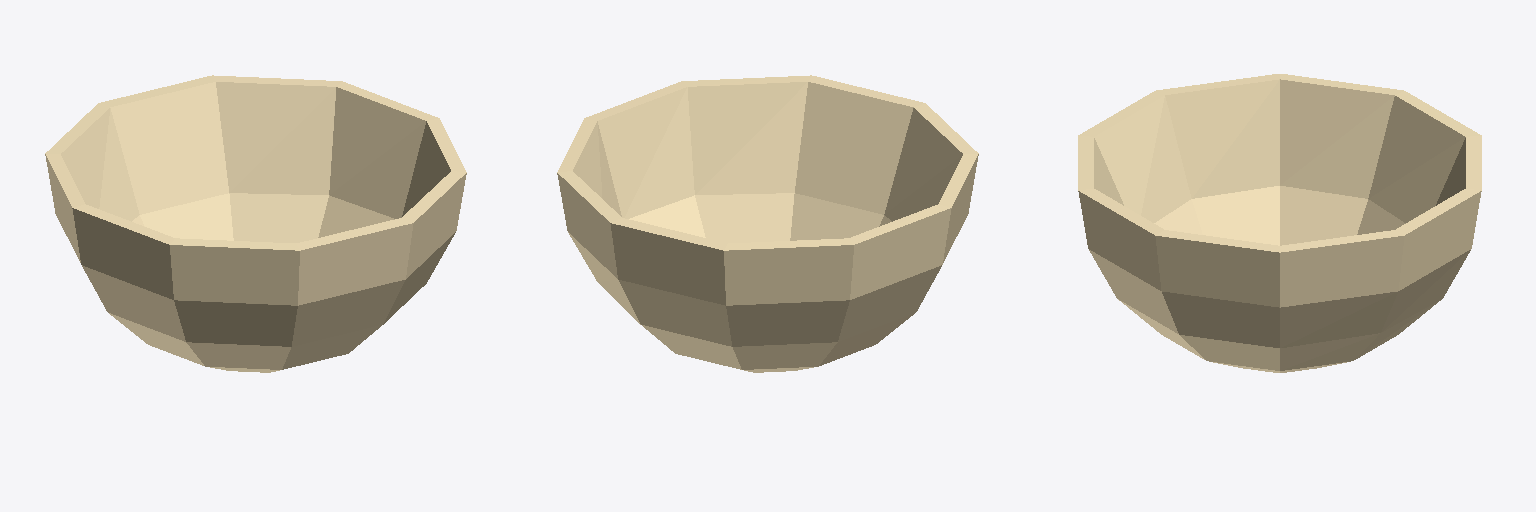
The model's file is bowl.obj.
3 views of the same model, side by side, from view 1: azimuth 30°, elevation 25°; view 2: azimuth 150°, elevation 25°; view 3: azimuth 270°, elevation 25° (orthographic).
Visible parts, largest first — view 1: pSphere1; view 2: pSphere1; view 3: pSphere1.
Boxes of the visible parts, x1,y1,x2,y2 form: pSphere1: [45, 75, 466, 372]; pSphere1: [557, 75, 978, 372]; pSphere1: [1078, 74, 1481, 372].
Bounding box in the file's own units: 2 × 0.972 × 1.9.